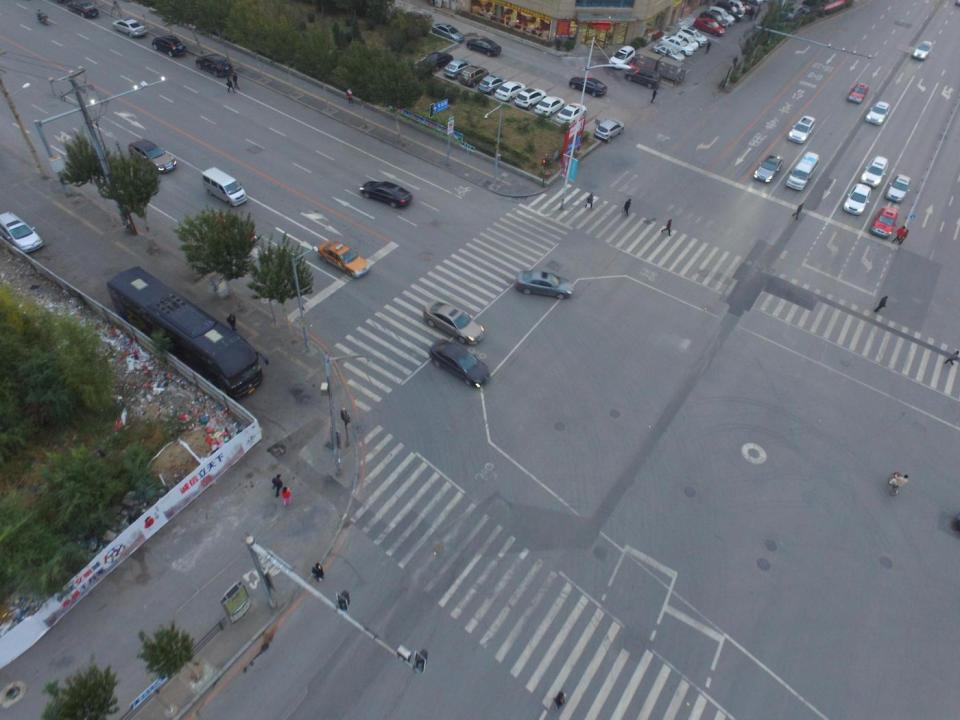car: (427, 336, 492, 386), (423, 300, 484, 344), (208, 213, 258, 252), (317, 242, 369, 278), (516, 270, 575, 301), (0, 210, 43, 252), (127, 138, 175, 174), (361, 180, 412, 210), (868, 207, 898, 239), (862, 154, 889, 189), (569, 74, 606, 99), (753, 153, 784, 182), (788, 114, 817, 145), (884, 173, 911, 206), (845, 183, 869, 215), (514, 86, 546, 110), (468, 36, 501, 58), (625, 69, 661, 89), (460, 64, 490, 88), (417, 51, 451, 72), (558, 103, 587, 127), (432, 23, 464, 44), (661, 35, 693, 56), (534, 95, 564, 117), (495, 80, 525, 102), (865, 101, 891, 126), (693, 17, 725, 36), (66, 1, 98, 20), (652, 45, 684, 63), (608, 45, 634, 67), (445, 59, 470, 80), (681, 26, 707, 46), (480, 74, 506, 93), (675, 30, 700, 49), (913, 39, 932, 62), (704, 10, 728, 28), (710, 8, 734, 26), (848, 84, 868, 105), (718, 3, 741, 21)
truck: (107, 264, 270, 400)
van: (202, 166, 248, 208), (786, 150, 820, 192), (195, 52, 233, 78), (151, 36, 186, 60), (595, 120, 624, 144), (113, 19, 147, 37), (727, 0, 747, 16)
